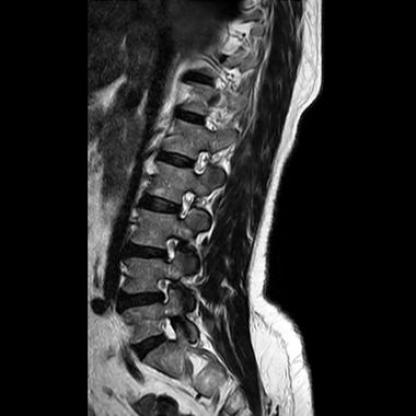Disc Bulgerotation: (111, 288, 167, 312), (120, 241, 170, 266)
